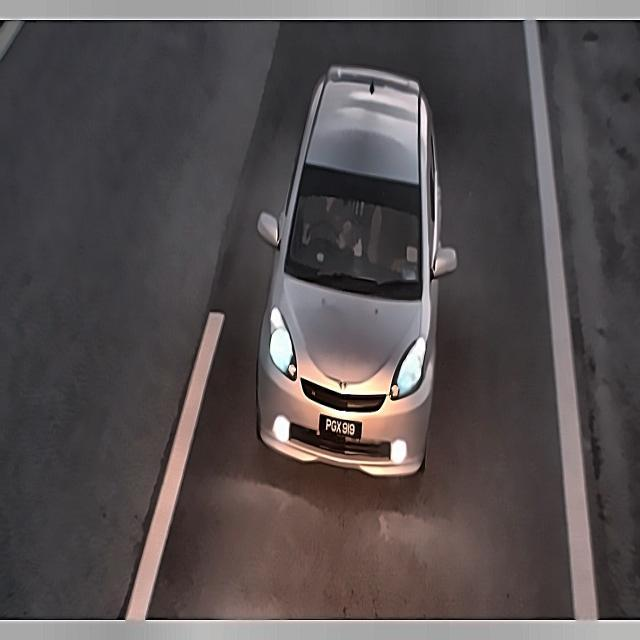car: (313, 408, 368, 447)
